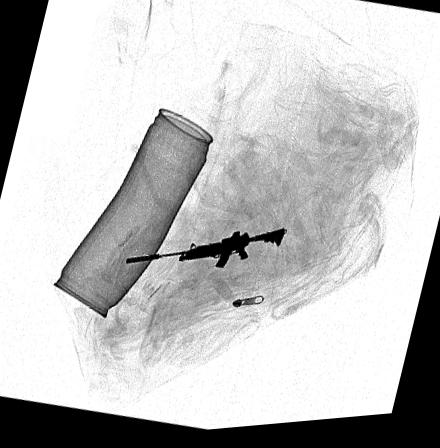Gun: (121, 232, 286, 273)
